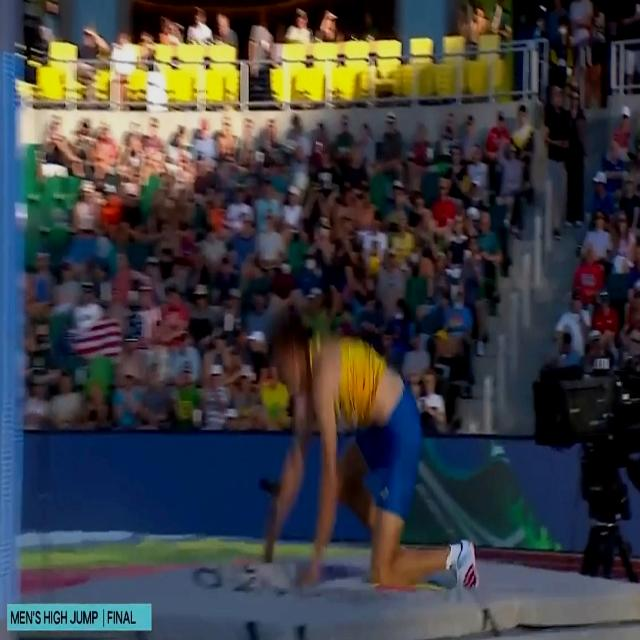land: (262, 298, 480, 594)
